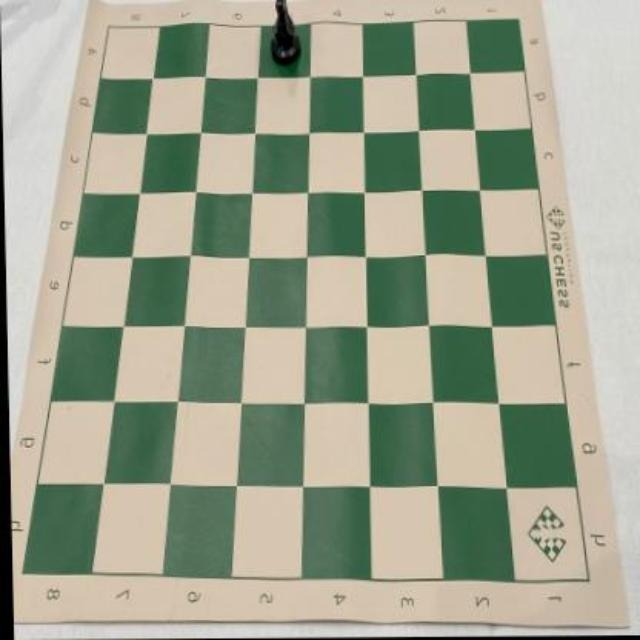black-knight: (269, 0, 301, 67)
